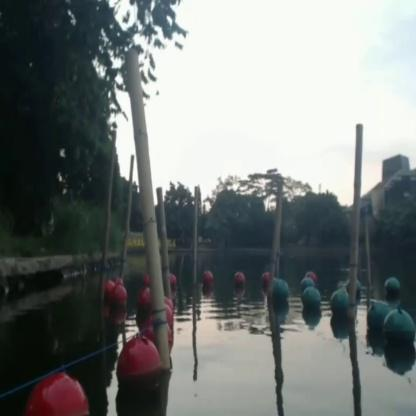green_buoy: (382, 307, 414, 358), (367, 300, 389, 334), (270, 277, 290, 306), (302, 286, 320, 318), (331, 289, 348, 318), (383, 278, 398, 302)
red_buoy: (24, 371, 92, 415), (116, 337, 162, 400), (112, 286, 127, 312), (104, 278, 116, 302), (232, 272, 245, 290), (202, 272, 213, 292)
